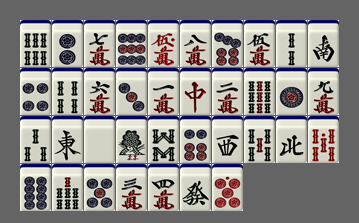0m: (148, 20, 179, 67)
0p: (212, 164, 243, 211)
0s: (308, 116, 339, 163)
1m: (148, 68, 179, 115)
1p: (276, 68, 307, 115)
1s: (116, 116, 147, 163)
1z: (52, 116, 83, 163)
2m: (212, 68, 243, 115)
2p: (52, 20, 83, 67)
2s: (276, 20, 307, 67)
2z: (308, 20, 339, 67)
3m: (116, 164, 147, 211)
3p: (116, 68, 147, 115)
3s: (20, 116, 51, 163)
3z: (212, 116, 243, 163)
4m: (148, 164, 179, 211)
4p: (20, 68, 51, 115)
4s: (52, 68, 83, 115)
4z: (276, 116, 307, 163)
5m: (244, 20, 275, 67)
5p: (84, 164, 115, 211)
5s: (244, 116, 275, 163)
5z: (84, 116, 115, 163)
6m: (84, 68, 115, 115)
6p: (180, 116, 211, 163)
6s: (20, 20, 51, 67)
6z: (180, 164, 211, 211)
7m: (84, 20, 115, 67)
7p: (212, 20, 243, 67)
7s: (52, 164, 83, 211)
7z: (180, 68, 211, 115)
8m: (180, 20, 211, 67)
8p: (20, 164, 51, 211)
8s: (148, 116, 179, 163)
9m: (308, 68, 339, 115)
9p: (116, 20, 147, 67)
9s: (244, 68, 275, 115)
